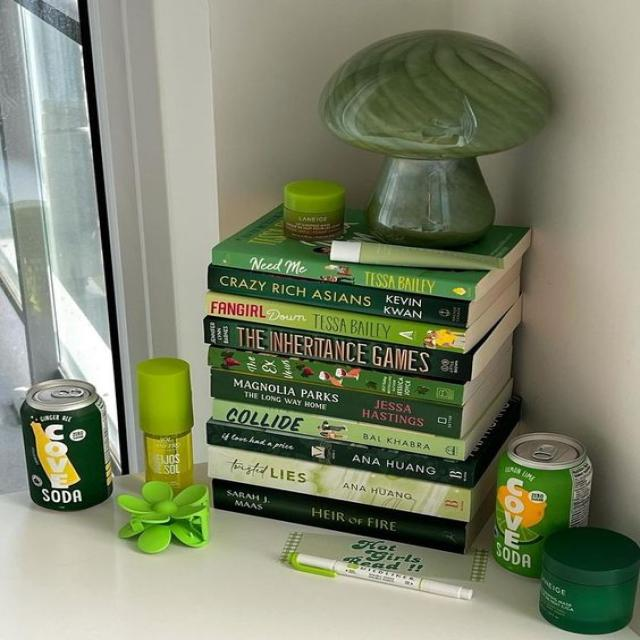book: (206, 447, 472, 523), (213, 480, 466, 555), (211, 369, 463, 439), (207, 423, 474, 489), (207, 266, 468, 329), (204, 319, 472, 380), (212, 398, 465, 461), (204, 293, 466, 353), (209, 347, 465, 405), (211, 249, 475, 302)
